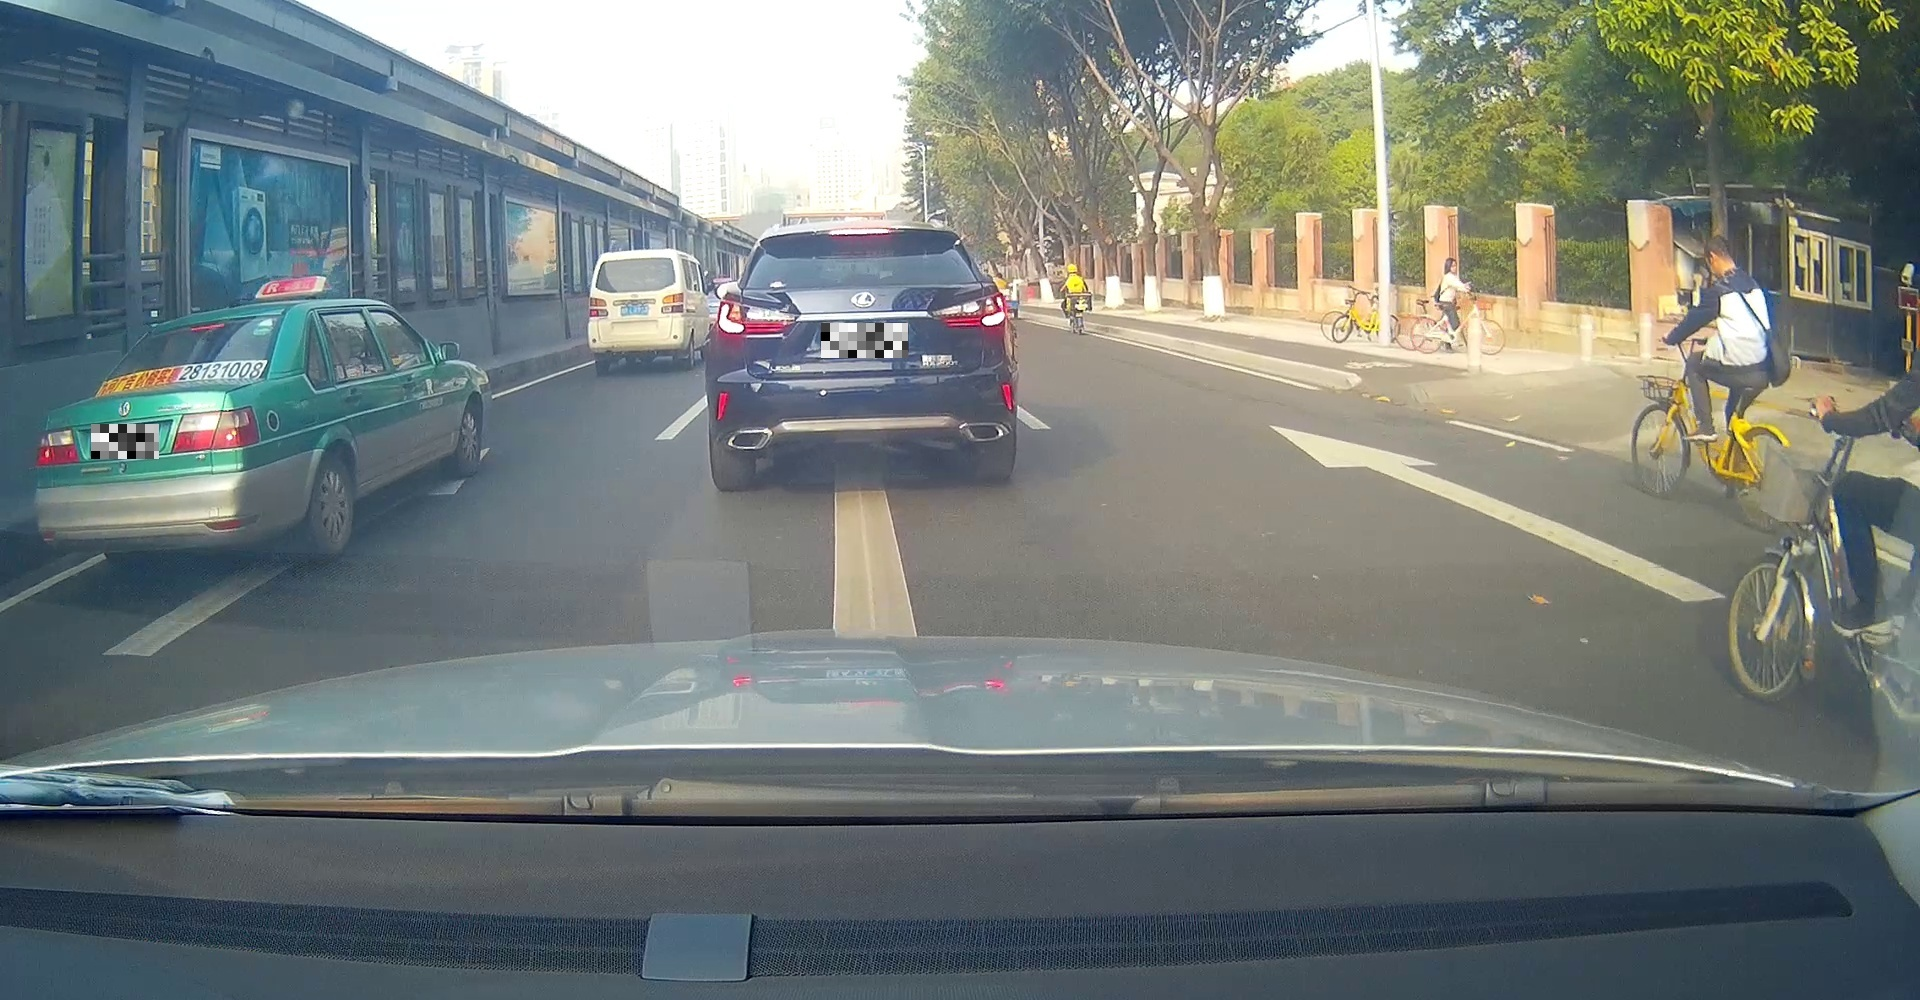L_light: (717, 298, 800, 341), (36, 426, 77, 464), (588, 296, 610, 319)
R_light: (170, 405, 259, 454), (932, 292, 1010, 329), (662, 292, 684, 313)
T_light: (828, 230, 890, 235), (190, 324, 223, 331), (629, 258, 646, 261)
day-brake: (709, 222, 1017, 491), (34, 302, 300, 569)
day-no: (588, 249, 688, 376)
plate_1: (91, 424, 159, 459)
plate_2: (822, 324, 908, 358)
